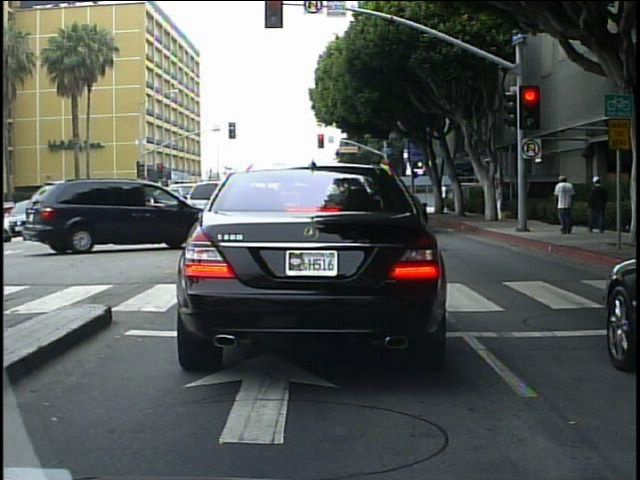person: (554, 172, 582, 236), (586, 171, 611, 237), (493, 178, 508, 221), (437, 179, 451, 213)
